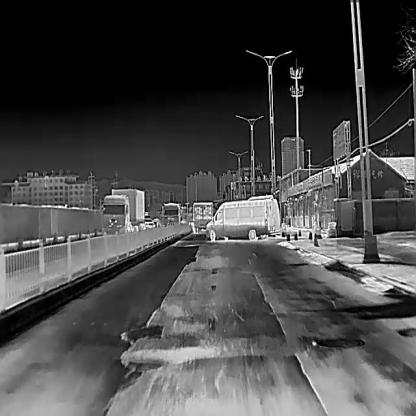car: (206, 198, 279, 240), (145, 217, 155, 227)
truck: (102, 188, 144, 236), (192, 201, 212, 233), (162, 202, 180, 224)
